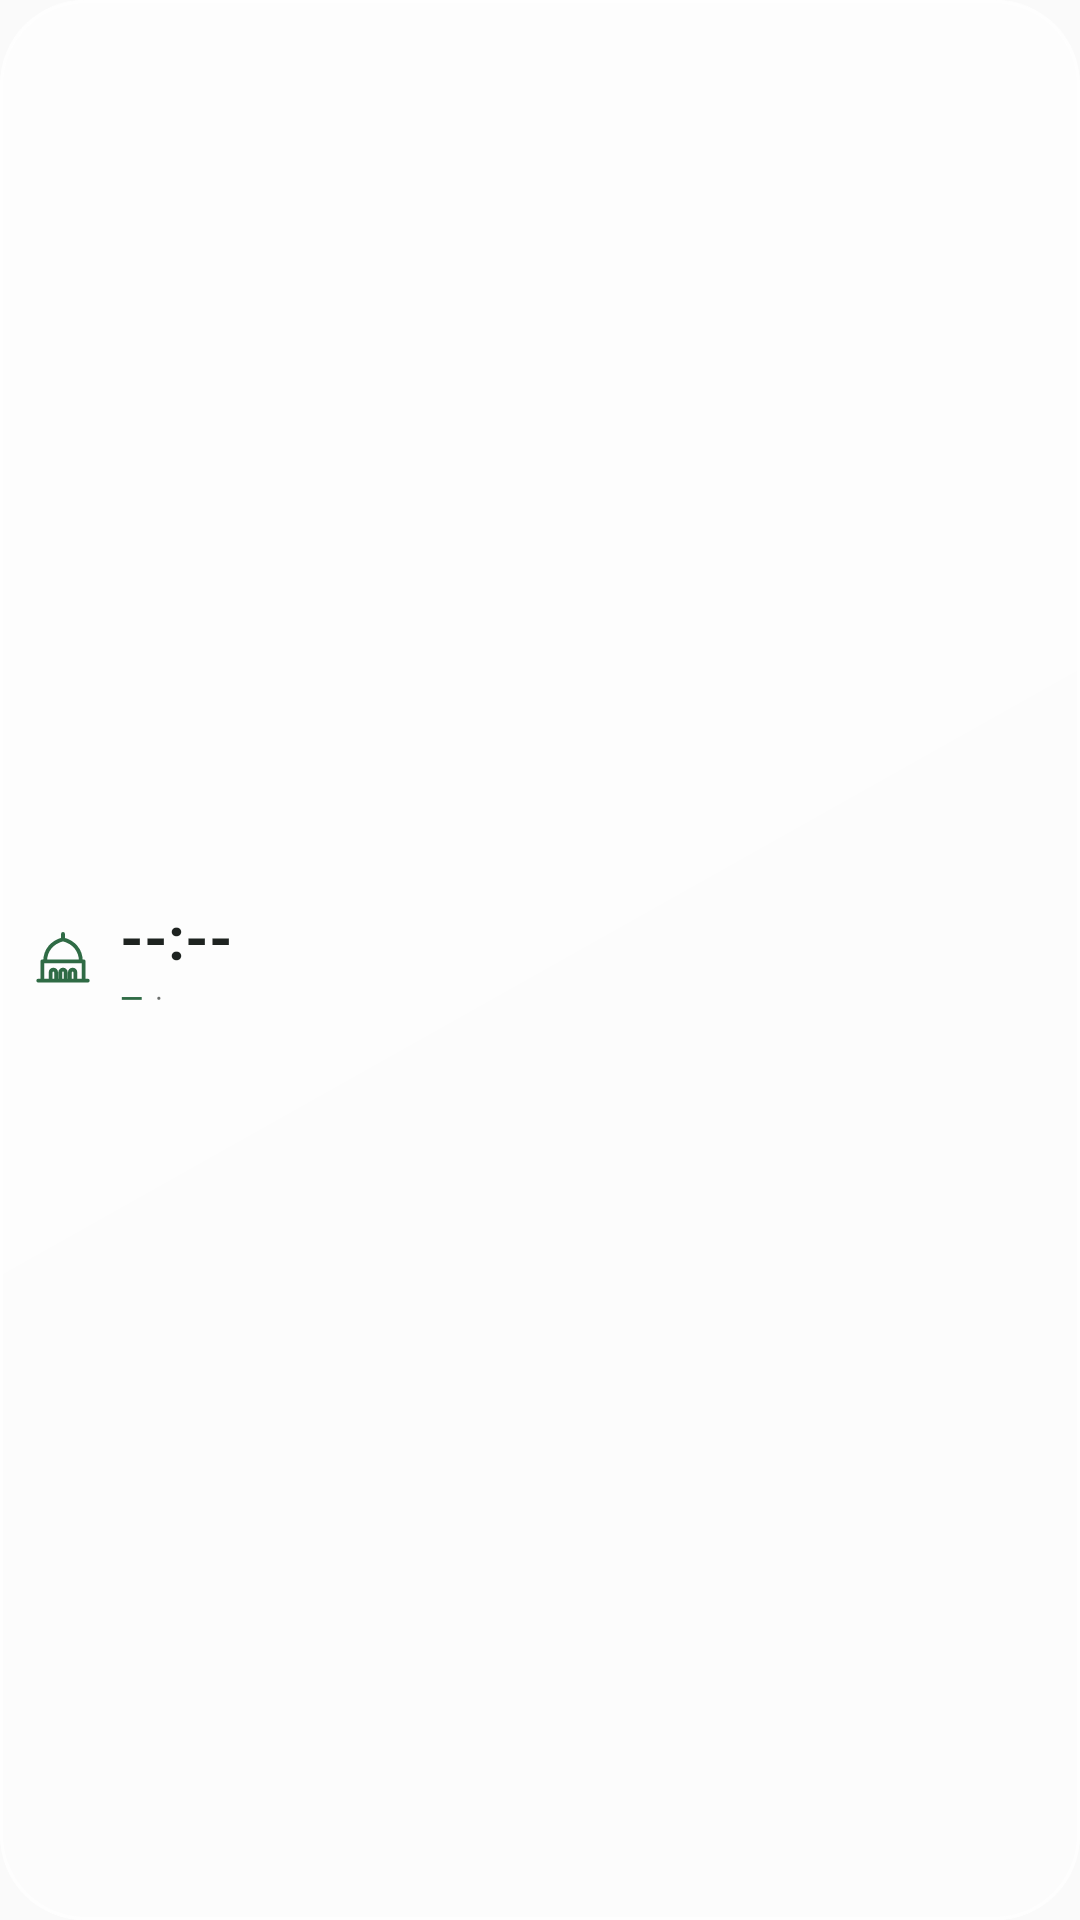

Icons on this 1080x1920 Android screen, each with its box as (x1, y1, x2, y2):
mosque: (36, 932, 90, 983)
